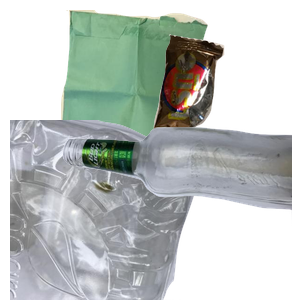glass: (60, 124, 300, 300)
paper: (55, 10, 255, 190)
plastic: (10, 120, 197, 300)
trash: (150, 32, 300, 172)
